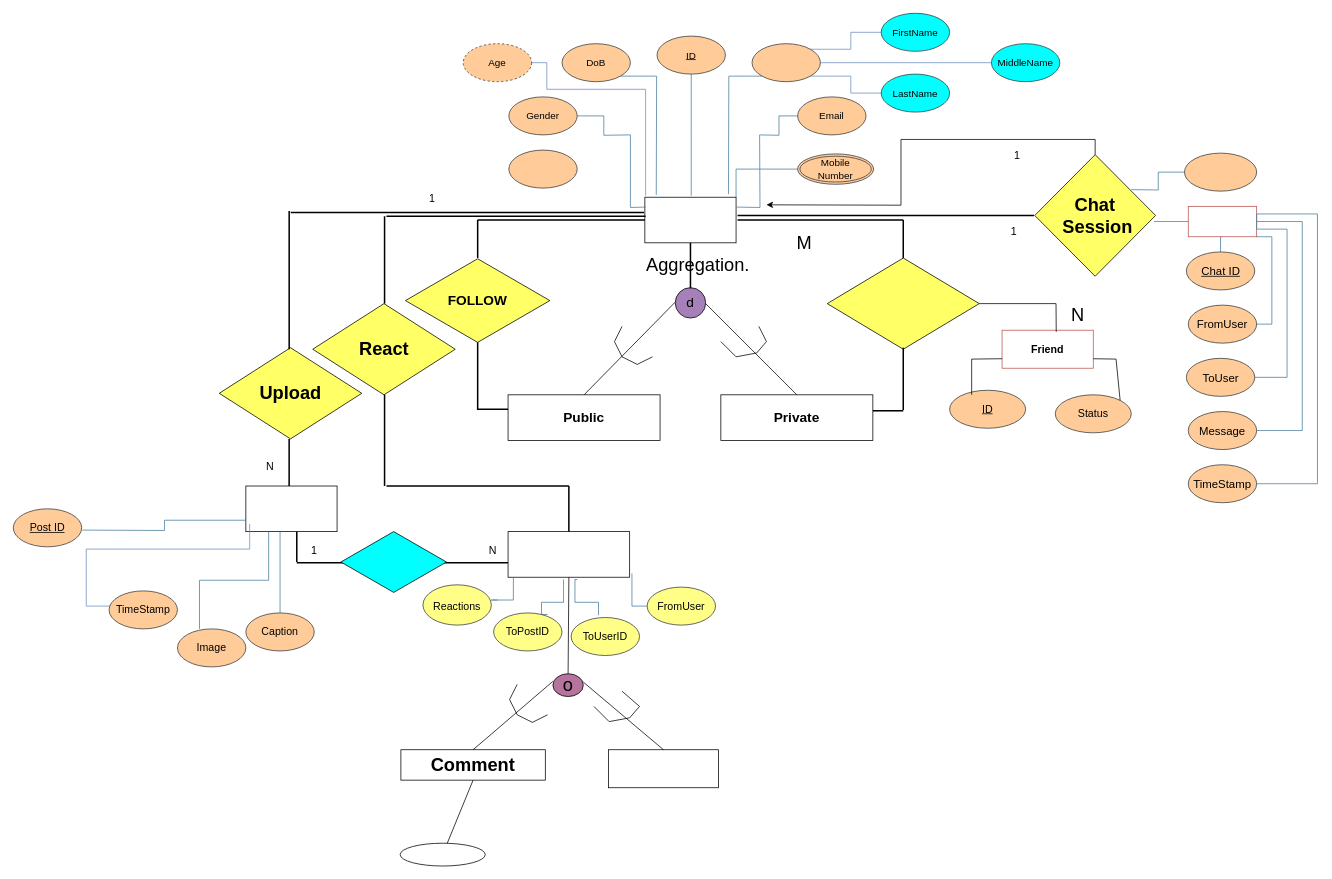
This 1332x879 diagram has some shape labels left out. The box of each missing label's shape, as (x1, y1, x2, y2) in pixels:
Chat: (1188, 206, 1257, 237)
Emoji: (608, 749, 719, 788)
FRIENDSHIP: (826, 257, 979, 349)
Name: (751, 43, 820, 82)
Password: (508, 149, 577, 188)
Post: (245, 485, 337, 532)
Reaction: (507, 531, 630, 577)
Reply: (340, 531, 446, 592)
Reply_Comment: (399, 842, 485, 866)
Session ID: (1184, 152, 1257, 191)
User: (644, 196, 736, 243)
